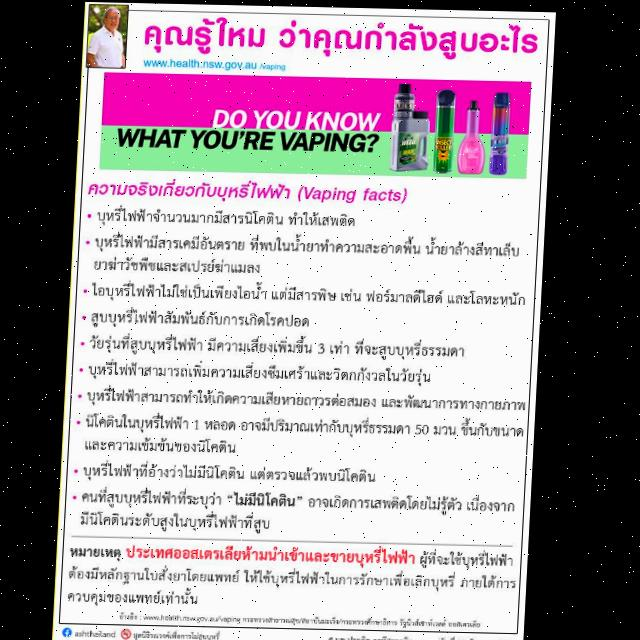vape: (390, 80, 432, 170), (458, 99, 488, 172), (435, 87, 457, 173), (491, 89, 513, 173)
